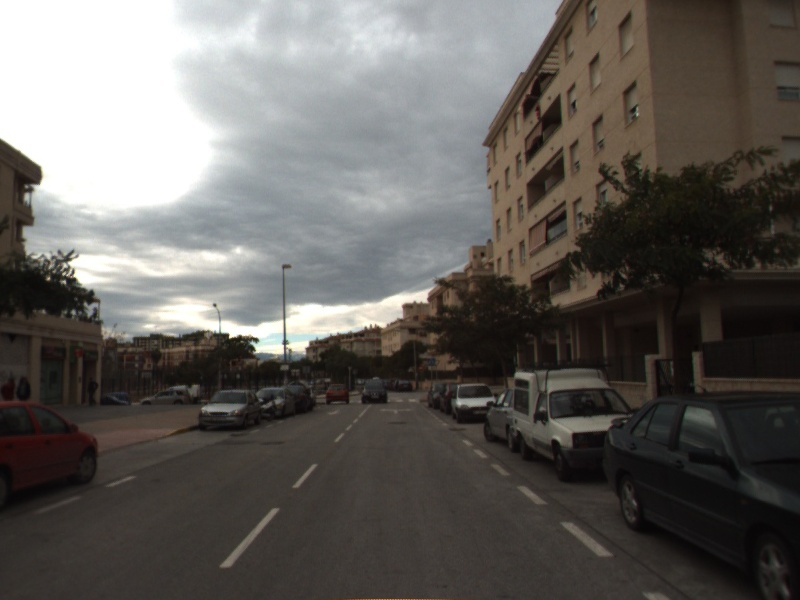LEFT_RIGHT: (378, 405, 415, 416)
